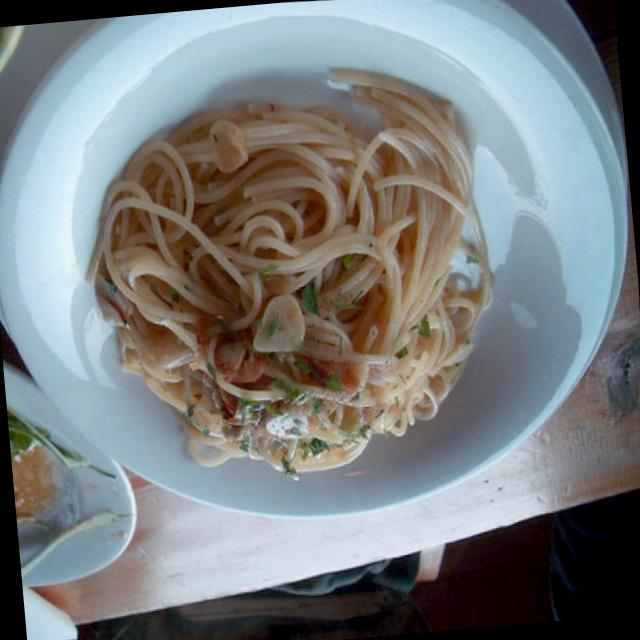Pasta: (81, 82, 518, 500)
